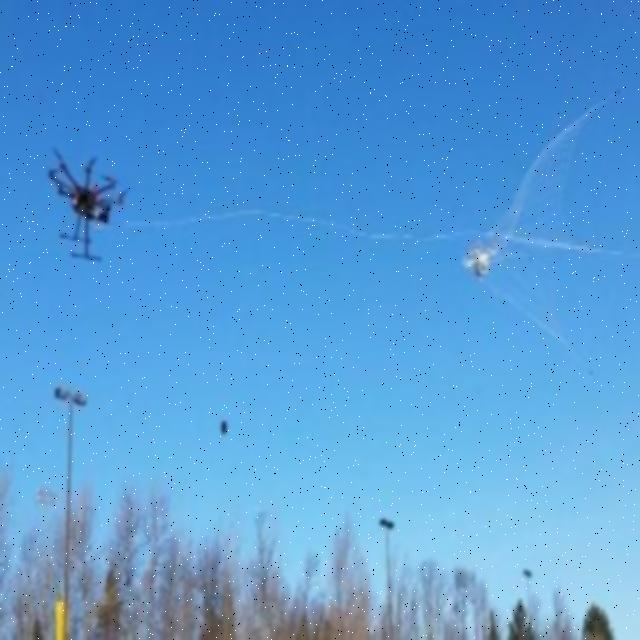UAV: (47, 148, 129, 268)
